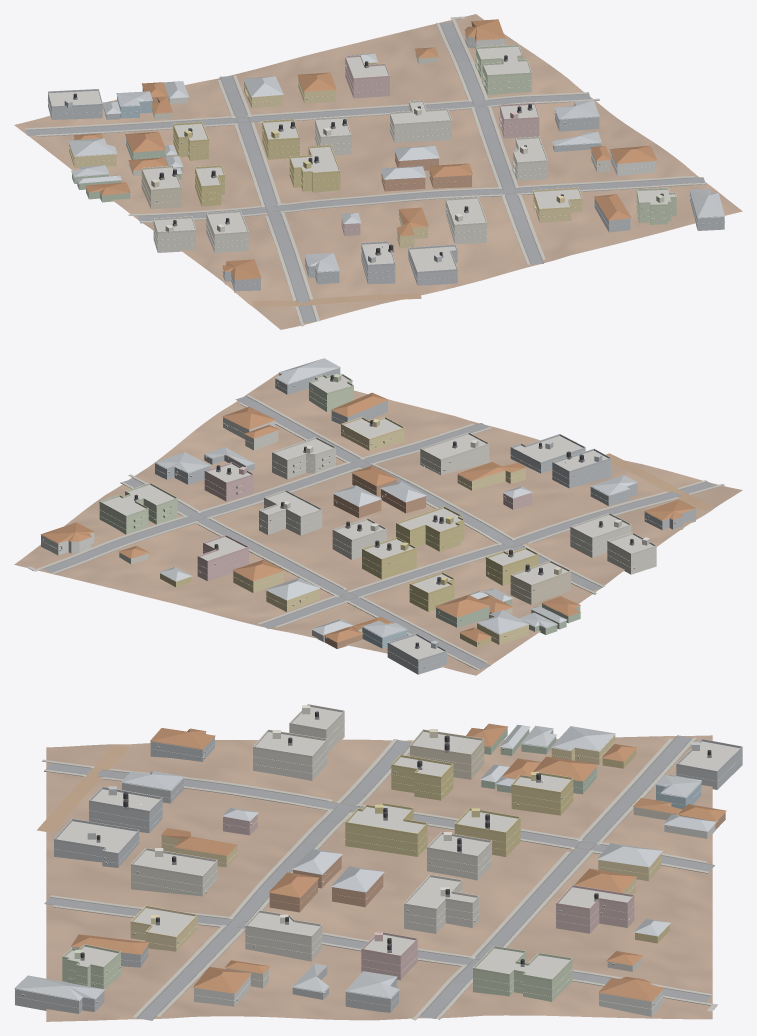
The picture shows the model from 3 angles, top to bottom: view 1: azimuth 30°, elevation 25°; view 2: azimuth 150°, elevation 25°; view 3: azimuth 270°, elevation 25°; orthographic projection. The views are drawn at different scales.
Visible parts, largest first — view 1: Terrain-col, Buildings-col, Roads-col, Details, Sidewalks-col; view 2: Buildings-col, Terrain-col, Roads-col, Details, Sidewalks-col; view 3: Terrain-col, Buildings-col, Roads-col, Details, Sidewalks-col.
Part boxes in pixels (x1,y1,x2,y2): Terrain-col: (14,14,742,329); Buildings-col: (48,19,724,292); Roads-col: (25,22,705,322); Details: (47,26,724,286); Sidewalks-col: (25,16,705,326); Buildings-col: (40,358,696,674); Terrain-col: (14,373,742,675); Roads-col: (43,396,715,669); Details: (41,374,696,668); Sidewalks-col: (26,395,724,669); Terrain-col: (46,735,712,1021); Buildings-col: (14,707,742,1016); Roads-col: (37,735,714,1020); Details: (14,704,742,1009); Sidewalks-col: (41,737,717,1020).
Size of the model in its own units: 269 by 18.18 by 280.
